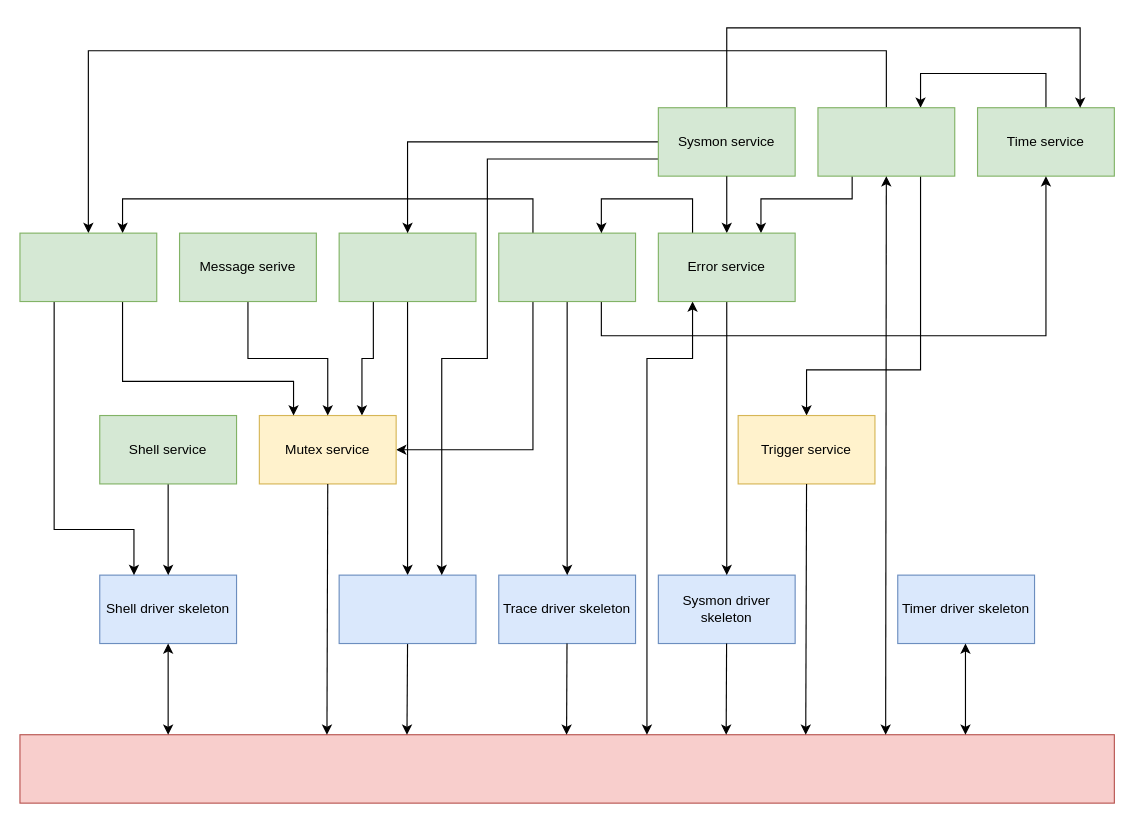
The diagram is 1134 pixels wide and 823 high, and some of its shapes have lost their labels. Here are the shapes that lost their labels. From the top down, the box of each, then its label:
(817, 107, 955, 176): Signal service
(19, 232, 157, 302): Queue service
(338, 232, 476, 302): GCP service
(498, 232, 636, 302): Trace service
(338, 574, 476, 644): CRC driver skeleton
(19, 734, 1114, 803): Kernel
